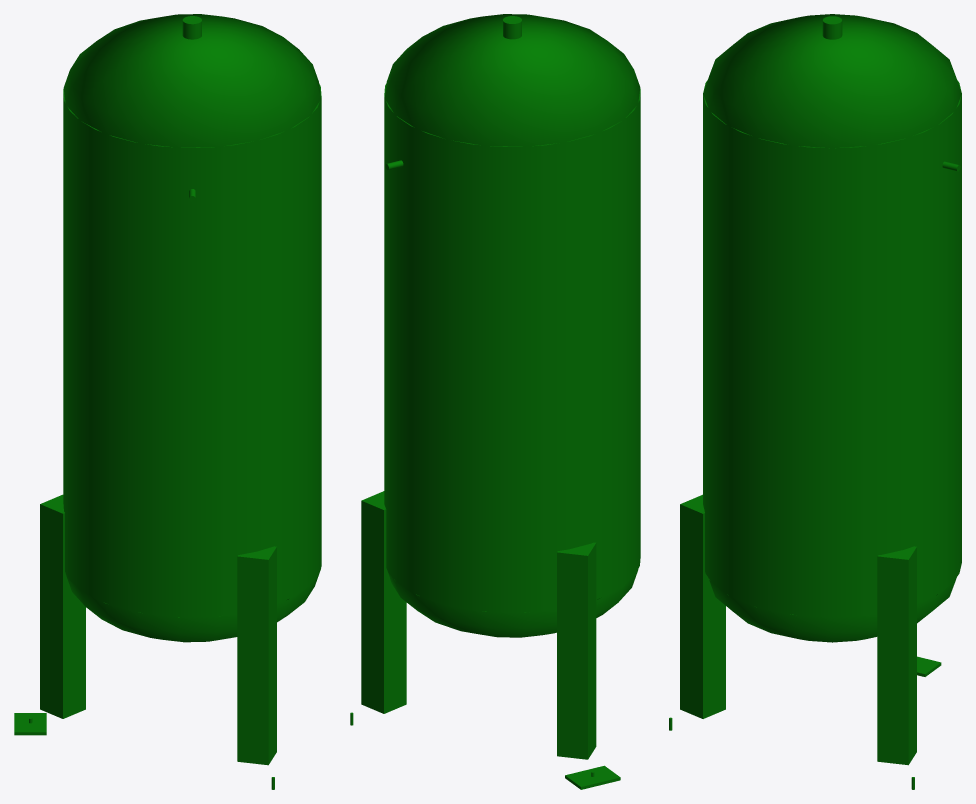
Rendered from Image-1710907682349-2280643543040_63-VX50.fbx.
3 views of the same model, side by side, from view 1: azimuth 30°, elevation 25°; view 2: azimuth 150°, elevation 25°; view 3: azimuth 270°, elevation 25° (orthographic).
Parts seen in each view (by area): view 1: CYLINDER 4 of EQUIPMENT /63-VX50, DISH 2 of EQUIPMENT /63-VX50, BOX 4 of EQUIPMENT /63-VX50, BOX 3 of EQUIPMENT /63-VX50, DISH 1 of EQUIPMENT /63-VX50, BOX 2 of EQUIPMENT /63-VX50; view 2: CYLINDER 4 of EQUIPMENT /63-VX50, DISH 2 of EQUIPMENT /63-VX50, BOX 3 of EQUIPMENT /63-VX50, BOX 1 of EQUIPMENT /63-VX50, DISH 1 of EQUIPMENT /63-VX50, BOX 2 of EQUIPMENT /63-VX50; view 3: CYLINDER 4 of EQUIPMENT /63-VX50, DISH 2 of EQUIPMENT /63-VX50, BOX 1 of EQUIPMENT /63-VX50, BOX 4 of EQUIPMENT /63-VX50, DISH 1 of EQUIPMENT /63-VX50.
Part boxes in pixels (x1,y1,x2,y2): CYLINDER 4 of EQUIPMENT /63-VX50: (63,84,321,617); DISH 2 of EQUIPMENT /63-VX50: (63,14,320,147); BOX 4 of EQUIPMENT /63-VX50: (237,546,276,765); BOX 3 of EQUIPMENT /63-VX50: (40,494,85,718); DISH 1 of EQUIPMENT /63-VX50: (65,568,320,642); BOX 2 of EQUIPMENT /63-VX50: (14,713,46,735); CYLINDER 4 of EQUIPMENT /63-VX50: (384,83,640,612); DISH 2 of EQUIPMENT /63-VX50: (384,14,640,146); BOX 3 of EQUIPMENT /63-VX50: (557,542,596,759); BOX 1 of EQUIPMENT /63-VX50: (361,491,406,713); DISH 1 of EQUIPMENT /63-VX50: (388,569,638,637); BOX 2 of EQUIPMENT /63-VX50: (565,765,620,789); CYLINDER 4 of EQUIPMENT /63-VX50: (703,80,961,617); DISH 2 of EQUIPMENT /63-VX50: (703,14,961,148); BOX 1 of EQUIPMENT /63-VX50: (877,546,916,765); BOX 4 of EQUIPMENT /63-VX50: (680,494,725,718); DISH 1 of EQUIPMENT /63-VX50: (708,577,956,642).
Size of the model in its own units: 0.9498 by 0.905 by 2.42.
